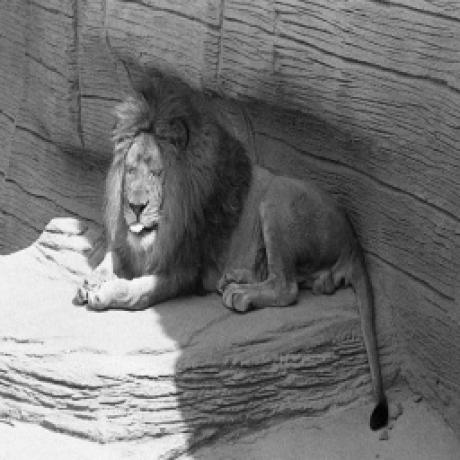Lion: (72, 66, 392, 430)
